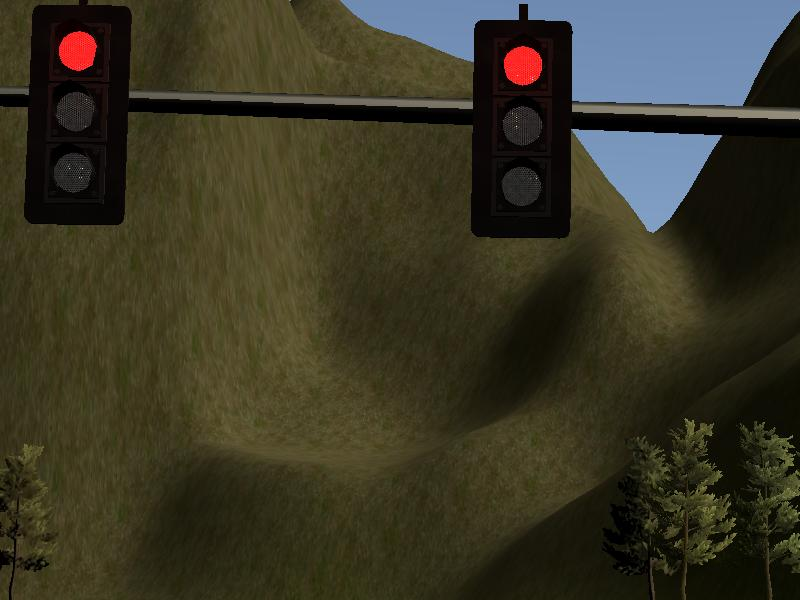red: (470, 21, 569, 237), (26, 7, 125, 223)
